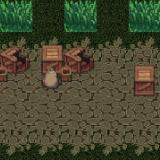Hide: (124, 58, 160, 106)
Obstacle: (33, 32, 97, 92), (0, 32, 33, 91)
Slow: (64, 0, 97, 33), (0, 0, 33, 33), (128, 0, 160, 32)
